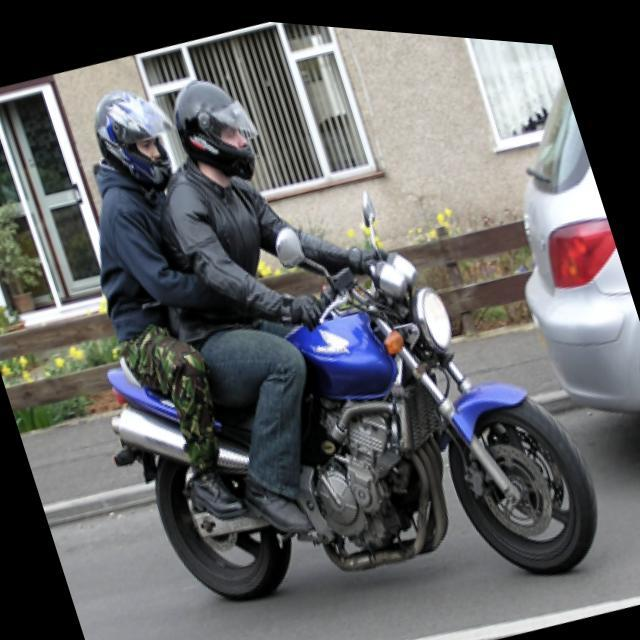Helmet: (174, 69, 266, 194), (93, 81, 171, 200)
